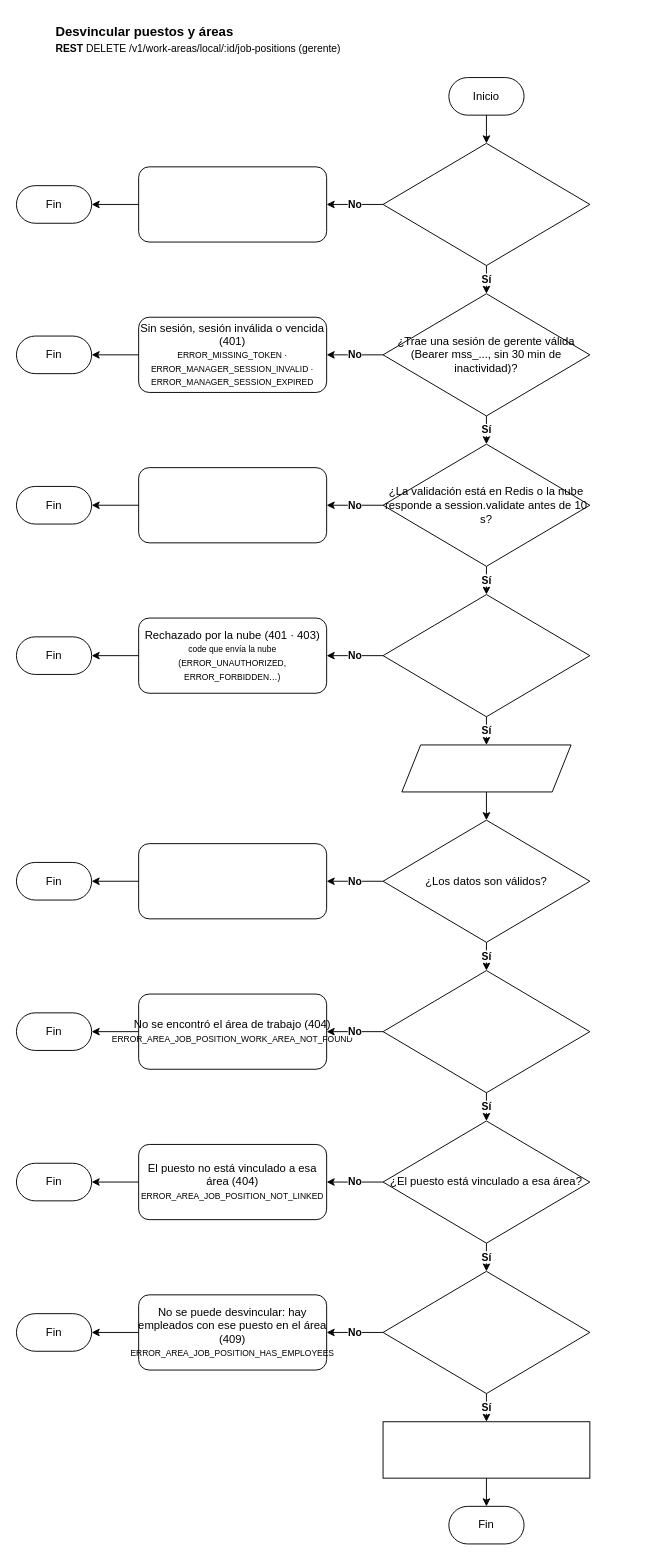
This 672x1560 diagram has some shape labels left out. Here are the shapes that lost their labels. From the top down, the centre of each, then its label:
At (232,204): "Servidor sin emparejar (409) ERROR_SERVER_NOT_PAIRED".
At (486,204): "¿El servidor ya se emparejó alguna vez (pairing_status distinto de unpaired)?".
At (232,505): "La nube no responde (503) ERROR_CLOUD_UNAVAILABLE · ERROR_SERVER_UNLINKED".
At (486,655): "¿La nube acepta la sesión del gerente con este servidor?".
At (486,768): "Recibir datos".
At (232,881): "Datos inválidos (400) ERROR_BAD_REQUEST".
At (486,1031): "¿Existe el área de trabajo?".
At (486,1332): "¿Ningún empleado tiene ese puesto en el área?".
At (486,1449): "Responder 200 con el mensaje UNLINKED".
